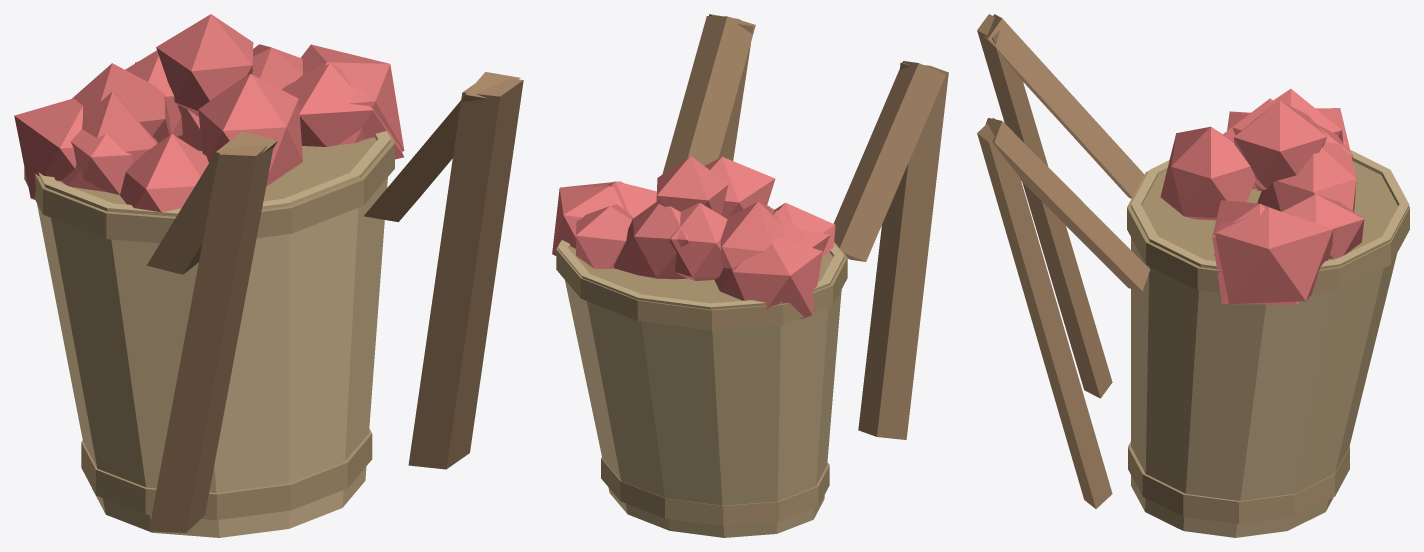
Rendered from load_basket.glb.
The picture shows the model from 3 angles, left to right: view 1: azimuth 30°, elevation 25°; view 2: azimuth 150°, elevation 25°; view 3: azimuth 270°, elevation 25°; orthographic projection. The views are drawn at different scales.
Visible parts, largest first — view 1: Carry.Basket, Carry.Basket.Strap#3, Carry.Basket.Strap, Carry.Basket.Band#2, Carry.Basket.Band, Goods.Rock#12, Goods.Rock#6, Goods.Rock#5, Goods.Rock#3, Carry.Basket.Strap#4, Goods.Rock#8, Carry.Basket.Strap#2 (+7 smaller); view 2: Carry.Basket, Carry.Basket.Strap, Carry.Basket.Strap#2, Carry.Basket.Band#2, Carry.Basket.Strap#4, Goods.Rock#8, Carry.Basket.Band, Goods.Rock#7, Goods.Rock#11, Goods.Rock#6, Goods.Rock, Goods.Rock#4 (+5 smaller); view 3: Carry.Basket, Carry.Basket.Strap#3, Carry.Basket.Band#2, Carry.Basket.Strap, Goods.Rock#10, Goods.Rock#12, Carry.Basket.Strap#4, Carry.Basket.Strap#2, Carry.Basket.Band, Goods.Rock#6, Goods.Rock#7, Goods.Rock#4 (+2 smaller).
Part boxes in pixels (x1=…): Carry.Basket: x1=37, y1=131, x2=390, y2=537; Carry.Basket.Strap#3: x1=408, y1=78, x2=523, y2=469; Carry.Basket.Strap: x1=149, y1=138, x2=274, y2=532; Carry.Basket.Band#2: x1=24, y1=131, x2=394, y2=243; Carry.Basket.Band: x1=81, y1=428, x2=372, y2=520; Goods.Rock#12: x1=198, y1=73, x2=302, y2=186; Goods.Rock#6: x1=156, y1=14, x2=253, y2=116; Goods.Rock#5: x1=282, y1=63, x2=403, y2=159; Goods.Rock#3: x1=120, y1=134, x2=208, y2=212; Carry.Basket.Strap#4: x1=364, y1=72, x2=519, y2=222; Goods.Rock#8: x1=14, y1=98, x2=82, y2=199; Carry.Basket.Strap#2: x1=147, y1=131, x2=277, y2=274; Carry.Basket: x1=558, y1=208, x2=844, y2=537; Carry.Basket.Strap: x1=858, y1=62, x2=948, y2=439; Carry.Basket.Strap#2: x1=833, y1=61, x2=945, y2=261; Carry.Basket.Band#2: x1=556, y1=241, x2=847, y2=330; Carry.Basket.Strap#4: x1=662, y1=16, x2=755, y2=174; Goods.Rock#8: x1=714, y1=237, x2=822, y2=318; Carry.Basket.Band: x1=601, y1=457, x2=829, y2=526; Goods.Rock#7: x1=614, y1=202, x2=689, y2=279; Goods.Rock#11: x1=669, y1=203, x2=727, y2=280; Goods.Rock#6: x1=656, y1=156, x2=728, y2=214; Goods.Rock: x1=720, y1=201, x2=785, y2=268; Goods.Rock#4: x1=575, y1=204, x2=633, y2=268; Carry.Basket: x1=1131, y1=149, x2=1409, y2=537; Carry.Basket.Strap#3: x1=977, y1=118, x2=1112, y2=508; Carry.Basket.Band#2: x1=1127, y1=161, x2=1409, y2=293; Carry.Basket.Strap: x1=977, y1=14, x2=1112, y2=398; Goods.Rock#10: x1=1214, y1=207, x2=1333, y2=304; Goods.Rock#12: x1=1160, y1=126, x2=1255, y2=220; Carry.Basket.Strap#4: x1=985, y1=118, x2=1150, y2=291; Carry.Basket.Strap#2: x1=983, y1=14, x2=1144, y2=198; Carry.Basket.Band: x1=1128, y1=441, x2=1349, y2=524; Goods.Rock#6: x1=1233, y1=100, x2=1327, y2=189; Goods.Rock#7: x1=1257, y1=142, x2=1356, y2=211; Goods.Rock#4: x1=1282, y1=194, x2=1364, y2=258.
Bounding box in the file's own units: 0.4241 × 0.5618 × 0.5291.
